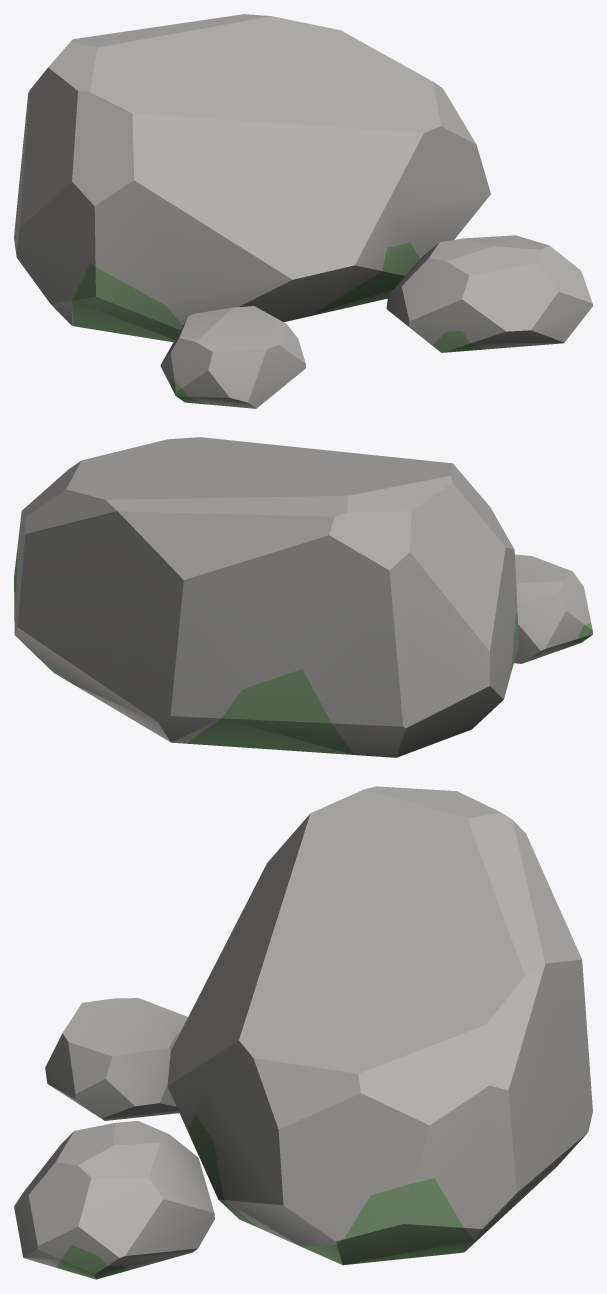
The model's file is rock.glb.
3 views of the same model, one above another, from view 1: azimuth 30°, elevation 25°; view 2: azimuth 150°, elevation 25°; view 3: azimuth 270°, elevation 25° (orthographic). The views are drawn at different scales.
Parts seen in each view (by area): view 1: rock.001; view 2: rock.001; view 3: rock.001.
Boxes of the visible parts, x1=… form: rock.001: x1=14, y1=14, x2=592, y2=408; rock.001: x1=14, y1=437, x2=592, y2=757; rock.001: x1=14, y1=786, x2=592, y2=1279.
Size of the model in its own units: 2.4 by 1.2 by 2.29.
